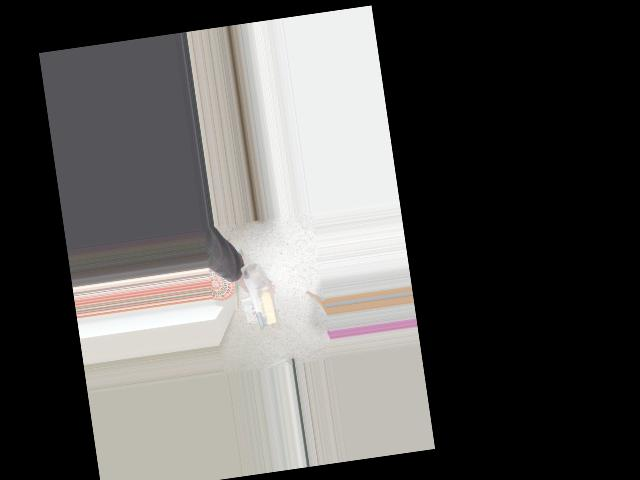cheese: (241, 262, 279, 329)
